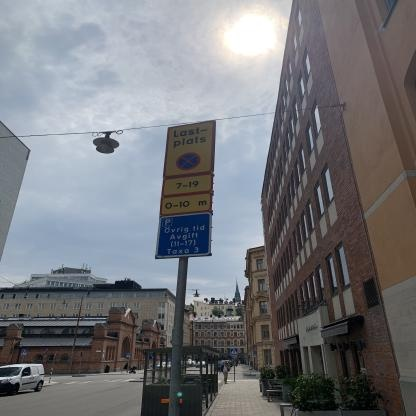lastplats: (160, 119, 216, 178)
